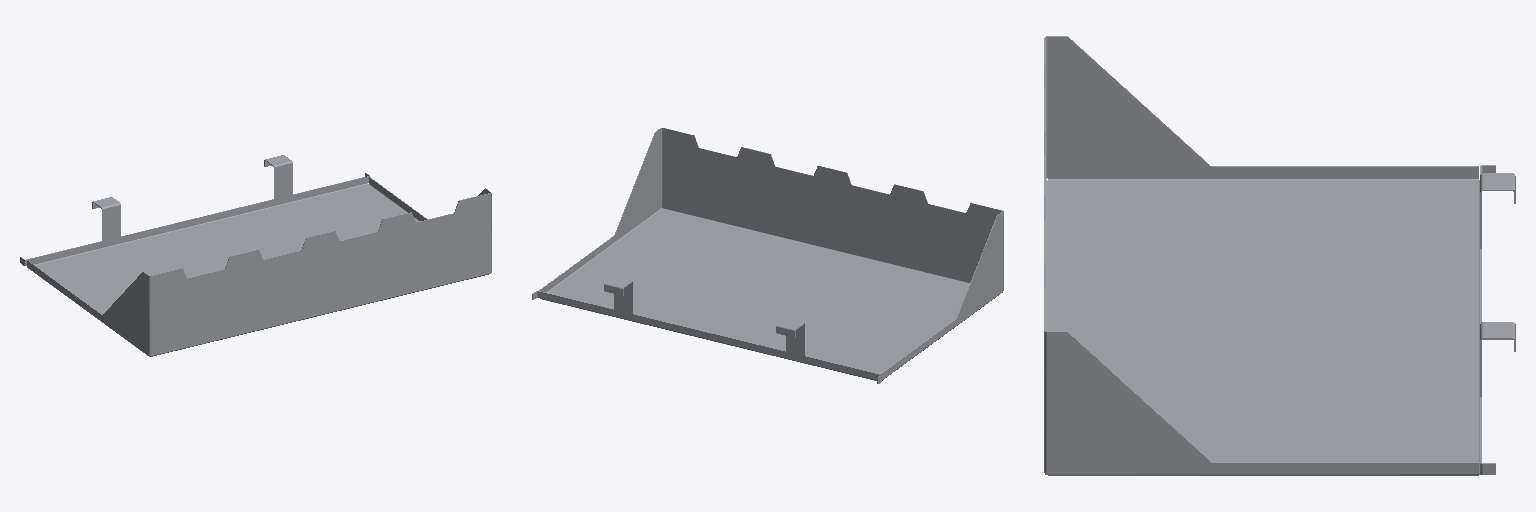
The robot description file, URDF, robot "fry_stand":
<?xml version="1.0"?>
<!--
  fry_stand.urdf
  바탕화면 "튀김 준비, 완료 거치대.step" → 변환. 단일 솔리드(준비/완료 두 구역이 한 몸체로 합쳐진 거치대).
  - 원본 STEP 단위 mm → 메쉬 좌표 자체를 m로 스케일 (scale="1 1 1")
  - 원점: 바닥면 중심 근처 (x:-0.4525~0.4525, y:-0.28~0.323, z:0~0.2039)
  - 치수 0.905 x 0.603 x 0.204 m (삼각형 972면) — 튀김기/작업대(약 0.9x0.6m)와 풋프린트가 비슷해 그 위에 얹기 적합
  - 시각: 원본 메쉬. 충돌: 원본 메쉬(VHACD)는 얇은 바닥판+뒤쪽 고리 돌기가 하나의 볼록껍질로 뭉쳐져
    바닥판 중앙 상당 부분이 실제보다 ~10cm 높게 뜬 것처럼 잡히는 문제가 있어(시뮬레이션으로 확인),
    박스 4개(바닥판/앞쪽 물결벽/고리 2개)로 직접 근사해 대체함 — 바닥판 위에 놓이는 바스켓 등이
    정확한 높이에 접촉하도록.
  - 정적 소품이므로 fix_base_link=True 권장
-->
<robot name="fry_stand">

  <material name="stand_steel"> <color rgba="0.68 0.69 0.71 1.0"/> </material>

  <link name="base_link">
    <inertial>
      <origin xyz="0 0.02 0.10"/>
      <mass value="3.0"/>
      <!-- 박스 근사 관성 (m=3.0, 0.905x0.603x0.204) -->
      <inertia ixx="0.1013" ixy="0" ixz="0" iyy="0.2151" iyz="0" izz="0.2957"/>
    </inertial>

    <visual>
      <origin xyz="0 0 0"/>
      <geometry><mesh filename="meshes/fry_stand.stl" scale="1 1 1"/></geometry>
      <material name="stand_steel"/>
    </visual>

    <!-- 바닥판: x:-0.444~0.444, y:-0.28~0.323, z:0~0.004 -->
    <collision>
      <origin xyz="0 0.0215 0.002"/>
      <geometry><box size="0.888 0.603 0.004"/></geometry>
    </collision>
    <!-- 앞쪽(로봇팔 쪽) 물결벽: y:-0.28~-0.276, z:0~0.204(최고 높이로 근사) -->
    <collision>
      <origin xyz="0 -0.278 0.102"/>
      <geometry><box size="0.888 0.006 0.204"/></geometry>
    </collision>
    <!-- 뒤쪽 고리 돌기 2개: x:-0.25~-0.2 / 0.2~0.25, y:0.278~0.323, z:0~0.103 -->
    <collision>
      <origin xyz="-0.225 0.3005 0.0515"/>
      <geometry><box size="0.05 0.045 0.103"/></geometry>
    </collision>
    <collision>
      <origin xyz="0.225 0.3005 0.0515"/>
      <geometry><box size="0.05 0.045 0.103"/></geometry>
    </collision>
  </link>
</robot>

--- Render facts (derived) ---
Views: 3 orthographic renders of the robot side by side, from view 1: azimuth 30°, elevation 25°; view 2: azimuth 150°, elevation 25°; view 3: azimuth 270°, elevation 25°.
Robot: fry_stand — 1 links, 0 joints (none); root link base_link; default pose: every joint at zero.
Links seen in each view (by area): view 1: base_link; view 2: base_link; view 3: base_link.
Boxes of the visible links, box(x1,y1,x2,y2) form: base_link: box(20, 155, 491, 356); base_link: box(532, 128, 1003, 383); base_link: box(1044, 36, 1515, 475).
Bounding box of the posed robot: 0.905 × 0.603 × 0.2039 m (x, y, z).
1 mesh visuals loaded from 1 distinct referenced files (1 binary STL).
